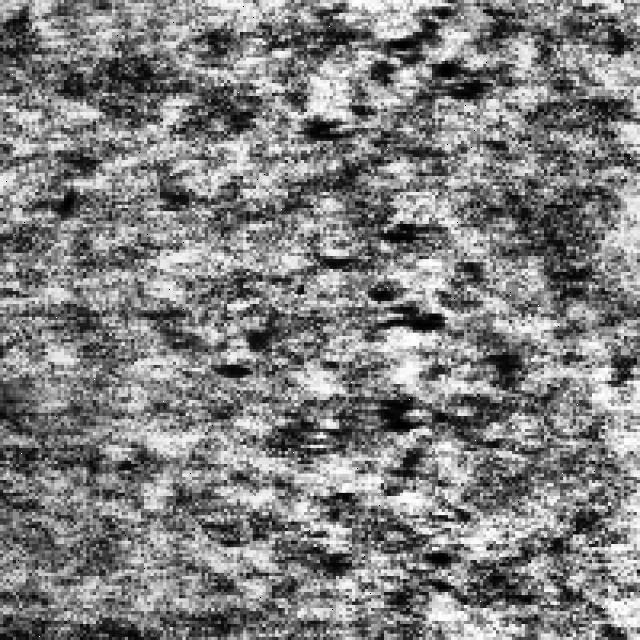Crazing: (214, 198, 442, 442), (314, 0, 461, 122)
